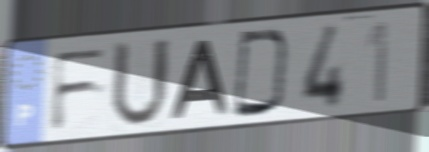1: (365, 17, 391, 107)
4: (298, 22, 348, 112)
A: (168, 38, 233, 121)
D: (231, 27, 293, 120)
F: (48, 44, 111, 135)
U: (107, 36, 172, 132)
